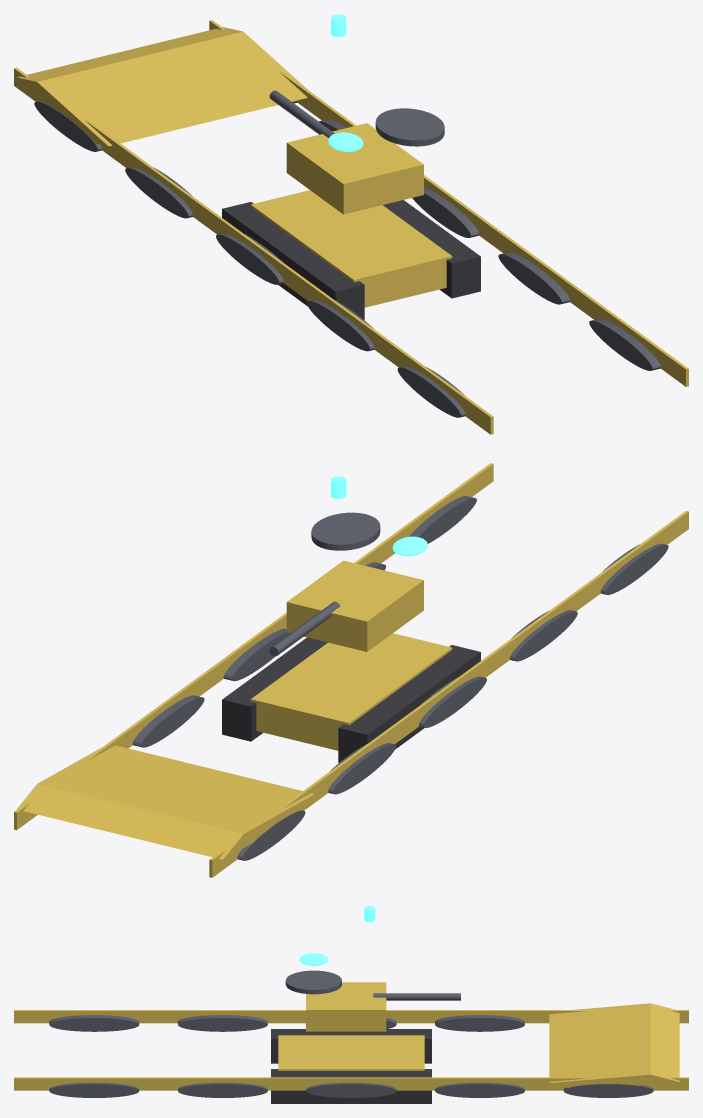
File: CO_ConYard_LOD1.glb
3 renders of one model, top to bottom at view 1: azimuth 30°, elevation 25°; view 2: azimuth 150°, elevation 25°; view 3: azimuth 270°, elevation 25°, orthographic. The views are drawn at different scales.
Visible parts, largest first — view 1: Cube.001, Cube, Cube.006, Cube.003, Cube.005, Cube.002, Cube.004, Cylinder.010, Cylinder.006, Cylinder.005, Cylinder.007, Cylinder.003 (+5 smaller); view 2: Cube.001, Cube, Cube.006, Cube.003, Cube.005, Cube.002, Cube.004, Cylinder.010, Cylinder.008, Cylinder, Cylinder.003, Cylinder.001 (+5 smaller); view 3: Cube.001, Cube.005, Cube, Cube.003, Cube.006, Cube.004, Cube.002, Cylinder, Cylinder.001, Cylinder.003, Cylinder.005, Cylinder.007 (+5 smaller).
Boxes of the visible parts, box(x1,y1,x2,y2) form: Cube.001: box(17, 27, 307, 146); Cube: box(250, 190, 452, 307); Cube.006: box(286, 123, 423, 214); Cube.003: box(14, 67, 493, 434); Cube.005: box(209, 20, 688, 386); Cube.002: box(222, 202, 364, 319); Cube.004: box(383, 200, 480, 298); Cylinder.010: box(375, 108, 444, 146); Cylinder.006: box(498, 252, 570, 304); Cylinder.005: box(589, 318, 660, 370); Cylinder.007: box(412, 187, 479, 237); Cylinder.003: box(125, 167, 193, 218); Cube.001: box(16, 745, 314, 859); Cube: box(250, 633, 452, 750); Cube.006: box(286, 560, 423, 651); Cube.003: box(209, 511, 688, 877); Cube.005: box(14, 463, 493, 829); Cube.002: box(338, 645, 480, 762); Cube.004: box(222, 637, 327, 741); Cylinder.010: box(311, 512, 380, 550); Cylinder.008: box(132, 695, 204, 747); Cylinder: box(600, 543, 668, 594); Cylinder.003: box(328, 743, 396, 794); Cylinder.001: box(509, 610, 577, 661); Cube.001: box(549, 1003, 679, 1087); Cube.005: box(14, 1077, 688, 1090); Cube: box(278, 1035, 424, 1070); Cube.003: box(14, 1010, 688, 1023); Cube.006: box(306, 982, 386, 1031); Cube.004: box(271, 1069, 431, 1103); Cube.002: box(271, 1029, 431, 1063); Cylinder: box(49, 1015, 139, 1031); Cylinder.001: box(178, 1015, 267, 1031); Cylinder.003: box(435, 1015, 524, 1031); Cylinder.005: box(49, 1082, 139, 1097); Cylinder.007: box(306, 1082, 396, 1097).
Size of what is drawn, in the model's own units: 4.65 by 5.15 by 18.48.
